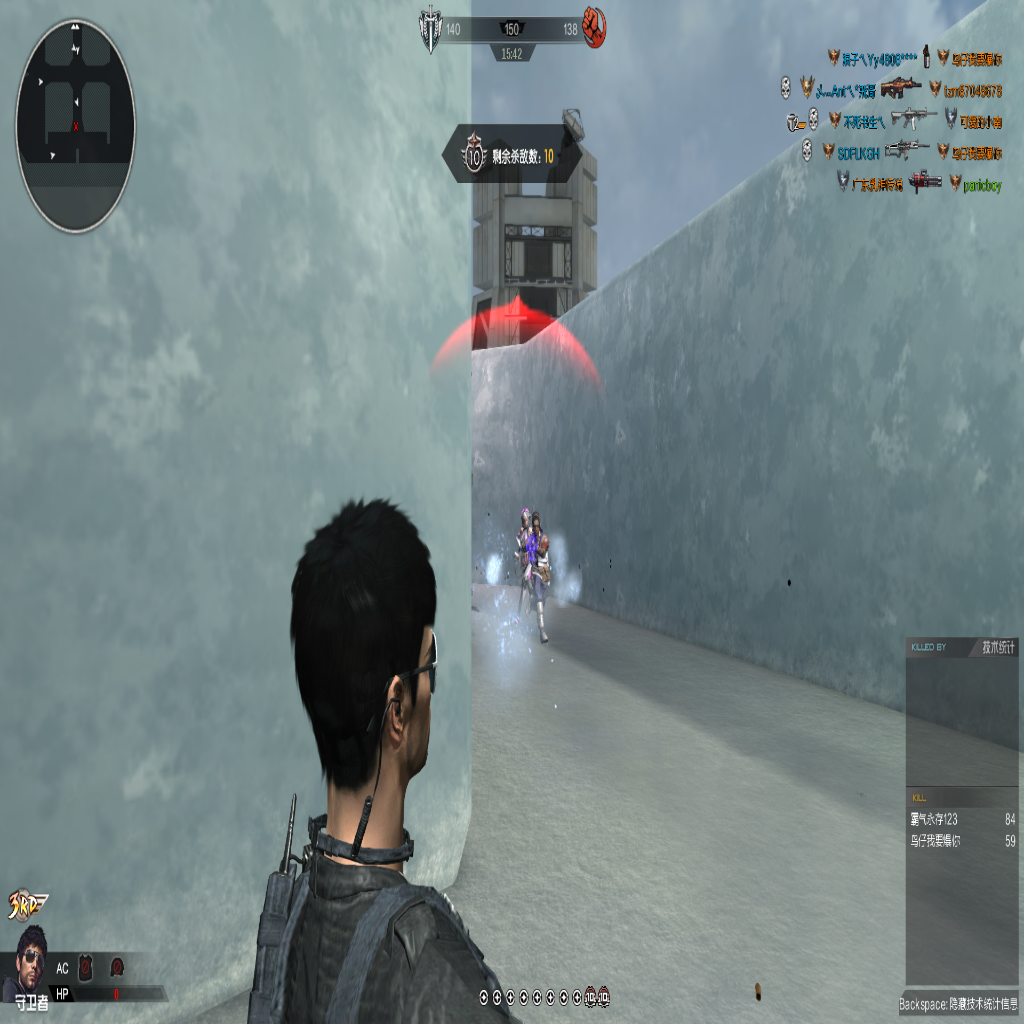tt: (523, 512, 551, 644), (515, 504, 533, 614)
